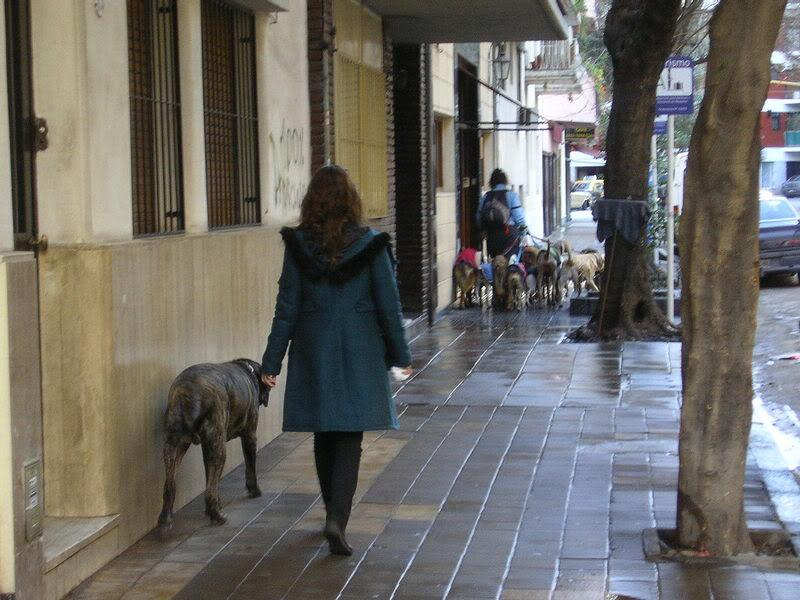person: (263, 168, 412, 554)
